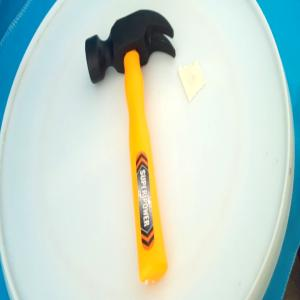martelo: (84, 9, 176, 286)
